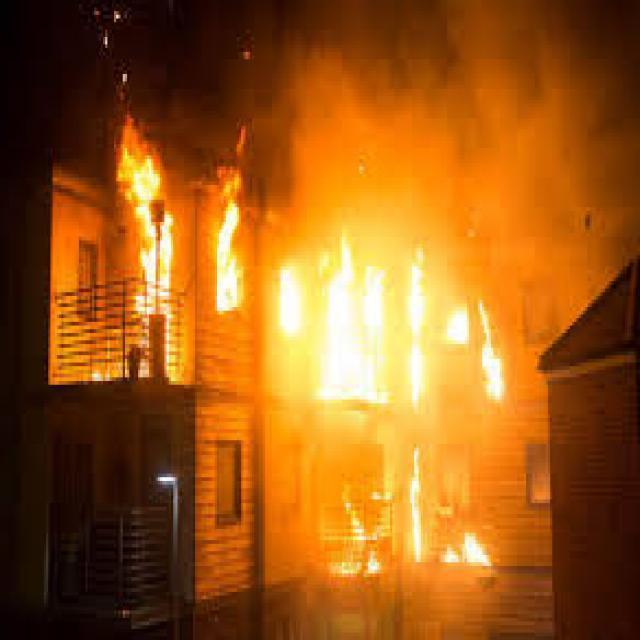Fire: (112, 138, 496, 402), (307, 459, 493, 586)
Smoke: (279, 11, 634, 188)
